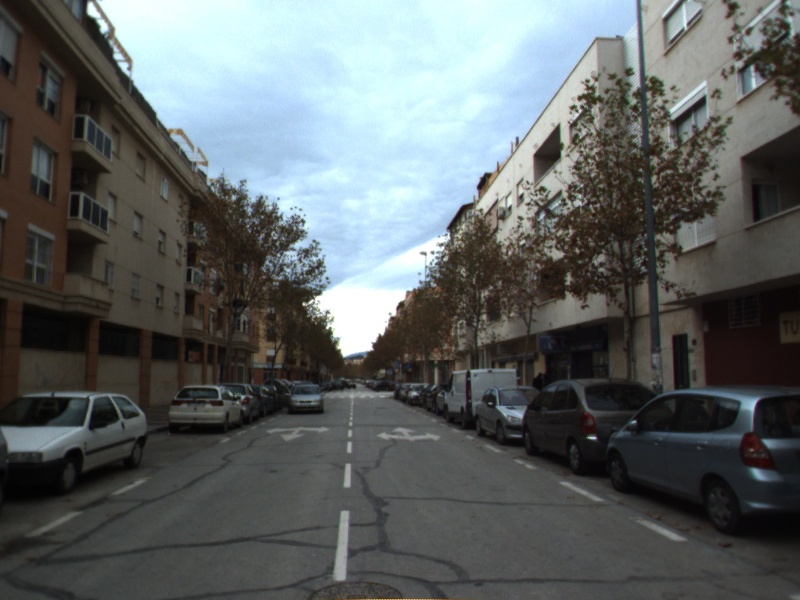STRAIGHT_LEFT_RIGHT: (375, 425, 443, 444)
